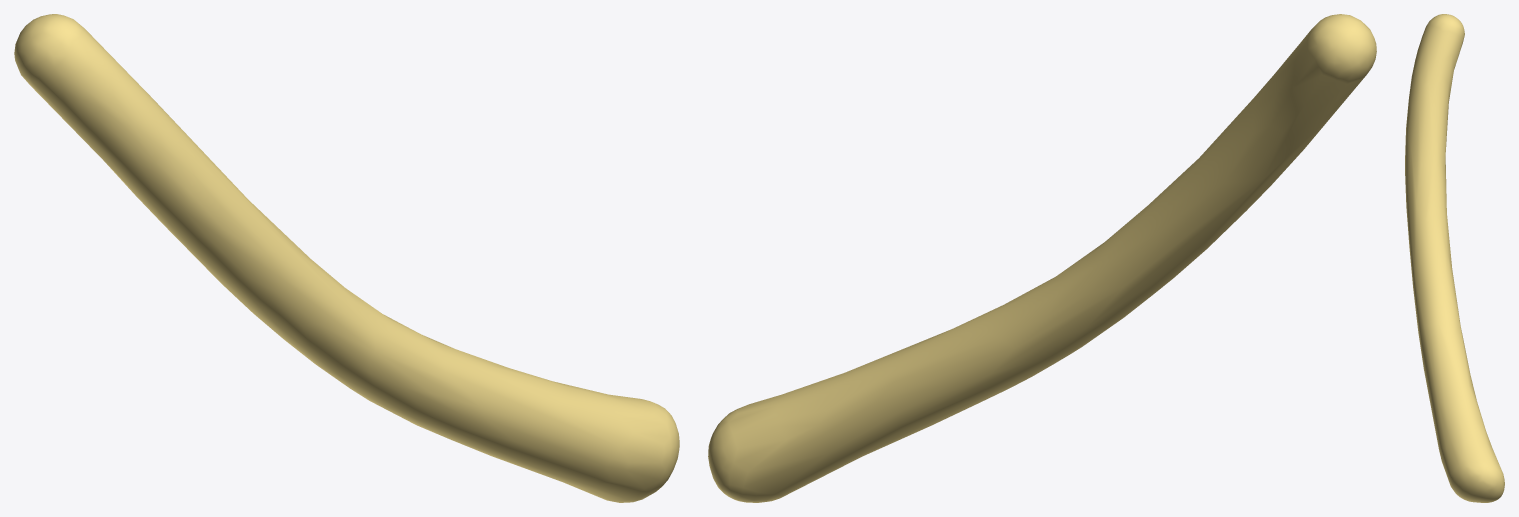
File: fma45243_fj4280.glb
3 views of the same model, side by side, from view 1: azimuth 30°, elevation 25°; view 2: azimuth 150°, elevation 25°; view 3: azimuth 270°, elevation 25° (orthographic). The views are drawn at different scales.
Parts seen in each view (by area): view 1: FMA45243_FJ4280; view 2: FMA45243_FJ4280; view 3: FMA45243_FJ4280.
Boxes of the visible parts, <box> form: FMA45243_FJ4280: <box>14,14,679,502</box>; FMA45243_FJ4280: <box>708,14,1376,502</box>; FMA45243_FJ4280: <box>1405,14,1504,502</box>.
Bounding box in the file's own units: 0.0269 × 0.0244 × 0.00661.
